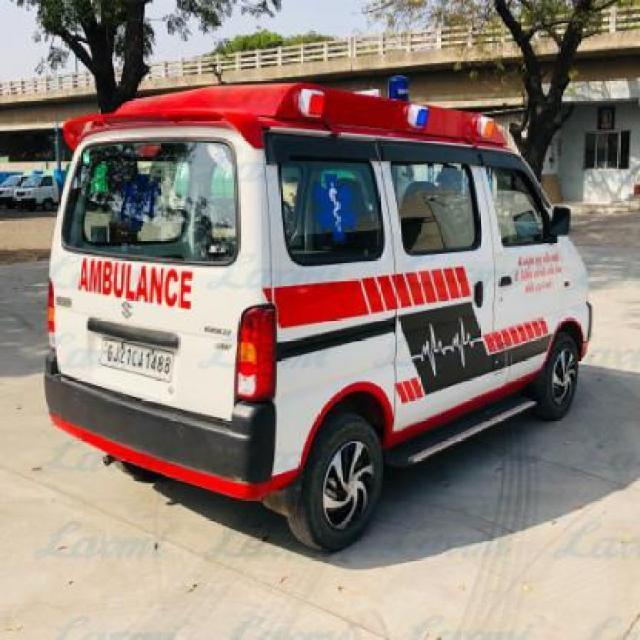Ambulance: (37, 74, 597, 557), (0, 167, 65, 216)
